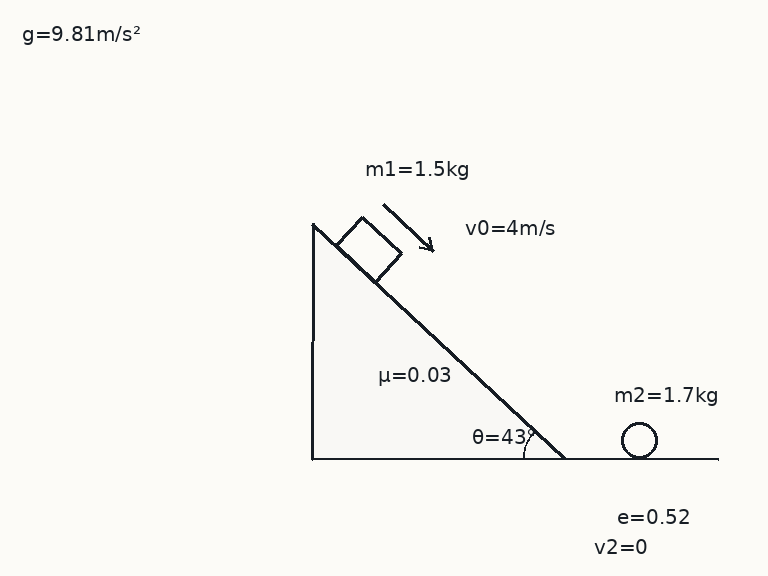ball: (619, 420, 659, 460)
block: (334, 214, 403, 283)
ramp: (310, 221, 566, 460)
